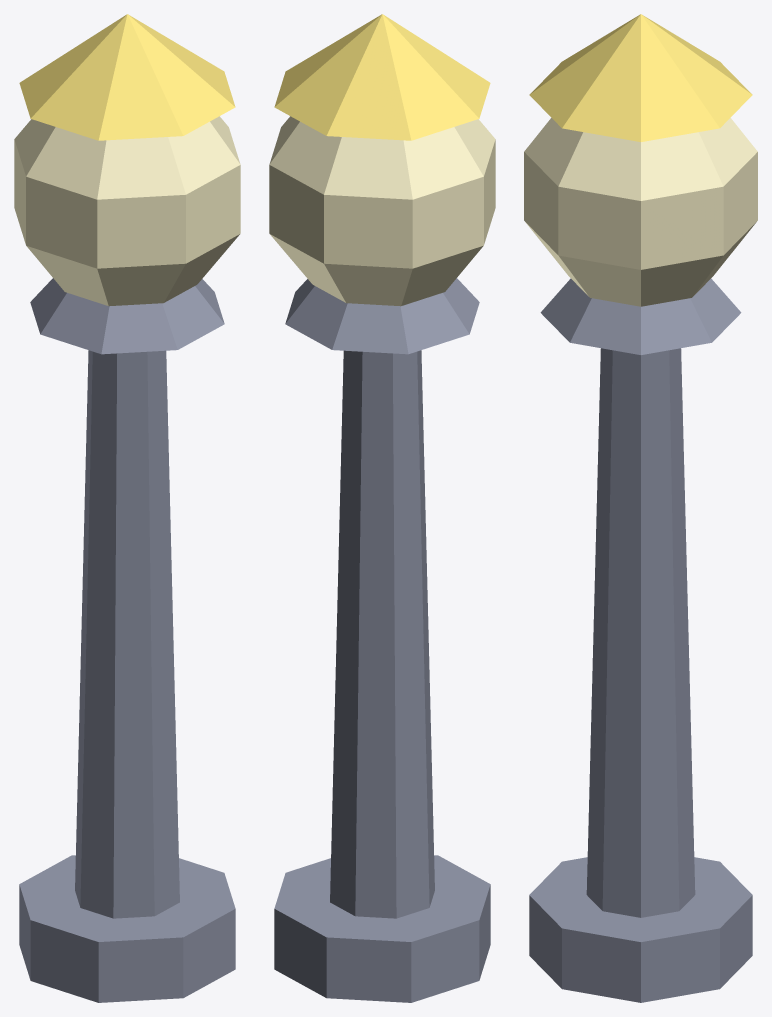
Rendered from CF_Lamp.fbx.
The picture shows the model from 3 angles, left to right: view 1: azimuth 30°, elevation 25°; view 2: azimuth 150°, elevation 25°; view 3: azimuth 270°, elevation 25°; orthographic projection.
Visible parts, largest first — view 1: CF_Lamp_Post, CF_Lamp_Lamp, CF_Lamp_Cap; view 2: CF_Lamp_Post, CF_Lamp_Lamp, CF_Lamp_Cap; view 3: CF_Lamp_Post, CF_Lamp_Lamp, CF_Lamp_Cap.
Part boxes in pixels (left/top/right/bottom): CF_Lamp_Post: left=19, top=278, right=235, bottom=1002; CF_Lamp_Lamp: left=14, top=116, right=240, bottom=306; CF_Lamp_Cap: left=19, top=14, right=235, bottom=140; CF_Lamp_Post: left=274, top=278, right=490, bottom=1002; CF_Lamp_Lamp: left=269, top=116, right=495, bottom=306; CF_Lamp_Cap: left=274, top=14, right=490, bottom=140; CF_Lamp_Post: left=529, top=278, right=752, bottom=1002; CF_Lamp_Lamp: left=524, top=118, right=757, bottom=306; CF_Lamp_Cap: left=529, top=14, right=752, bottom=141.
Size of the model in its own units: 2.09 by 9.3 by 2.09.
